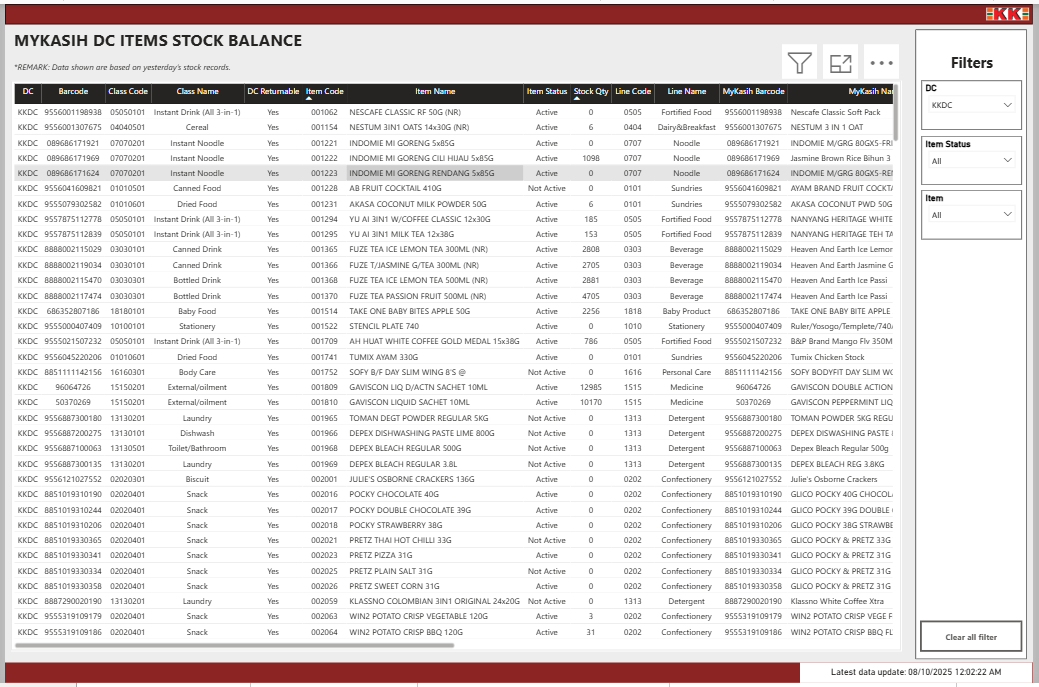

The dashboard page shown, as its layout file describes it:
{"tool":"powerbi","page":{"name":"DC Items Stock Balance","canvas":[1680,1110],"ordinal":2},"visuals":[{"type":"shape","box":[0,0,1680.2,33.2],"z":0},{"type":"shape","box":[0,1076.8,1680.2,33.2],"z":1000},{"type":"image","box":[1599.7,0,80.3,33.2],"z":2000},{"type":"textbox","title":"SALES AND MARKETING","box":[9.7,34.6,1072.6,88.6],"z":3000},{"type":"shape","box":[1488.7,41.7,182.3,1029.6],"z":4000},{"type":"textbox","box":[1513,73.9,135,44],"z":5000},{"type":"actionButton","box":[1496.1,1009,167.5,51.2],"z":6000},{"type":"slicer","title":"Item Status","fields":{"Values":["EastMalaysia.item_status"]},"box":[1498.4,215,164.2,80],"z":7000},{"type":"slicer","title":"DC","fields":{"Values":["AllDCItemsBalanceStock.store_code"]},"box":[1498.2,125,164,80.7],"z":8000},{"type":"slicer","title":"Item","fields":{"Values":["AllDCItemsBalanceStock.item_code"]},"box":[1498.4,305,164.2,80.7],"z":10000},{"type":"card","fields":{"Values":["AllDCItemsBalanceStock.Last_Update_All_DC"]},"box":[1300.8,1076.8,379.2,33.2],"z":11000},{"type":"tableEx","fields":{"Values":["AllDCItemsBalanceStock.store_code","AllDCItemsBalanceStock.barcode","AllDCItemsBalanceStock.class_code","AllDCItemsBalanceStock.class_name","AllDCItemsBalanceStock.dc_returnable","AllDCItemsBalanceStock.item_code","AllDCItemsBalanceStock.item_name","AllDCItemsBalanceStock.item_status","Sum(AllDCItemsBalanceStock.stock_qty)","AllDCItemsBalanceStock.line_code","AllDCItemsBalanceStock.line_name","AllDCItemsBalanceStock.mykasih_barcode"]},"box":[9,125,1455.8,933],"z":12000}]}

Visuals, with their boxes on the page's 1680x1110 design canvas (x1, y1, x2, y2). These are canvas units, not pixel positions in the 1039x687 screenshot, which may show the page scaled, cropped or inside an application window:
shape: bbox(0, 0, 1680, 33)
shape: bbox(0, 1077, 1680, 1110)
image: bbox(1600, 0, 1680, 33)
"SALES AND MARKETING" textbox: bbox(10, 35, 1082, 123)
shape: bbox(1489, 42, 1671, 1071)
textbox: bbox(1513, 74, 1648, 118)
actionButton: bbox(1496, 1009, 1664, 1060)
"Item Status" slicer: bbox(1498, 215, 1663, 295)
"DC" slicer: bbox(1498, 125, 1662, 206)
"Item" slicer: bbox(1498, 305, 1663, 386)
card - AllDCItemsBalanceStock.Last_Update_All_DC: bbox(1301, 1077, 1680, 1110)
tableEx - AllDCItemsBalanceStock.store_code x AllDCItemsBalanceStock.barcode: bbox(9, 125, 1465, 1058)
